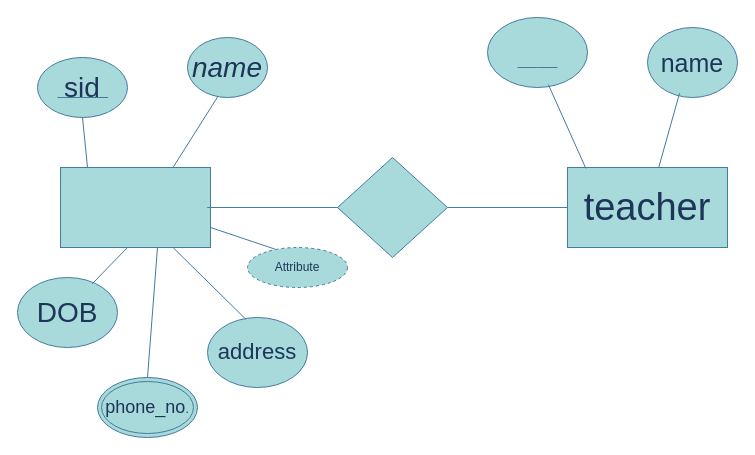
Some shapes in this 755 by 455 pixel diagram are drawn without their labels. The shapes that lost their labels are listed below. From the top down, each one's centre as x and y in pixels, then its label:
(537,52): tid
(135,207): student
(392,207): teach
